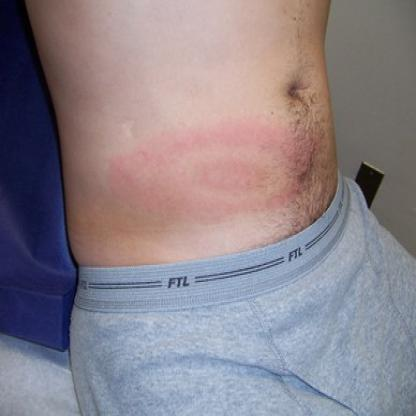Tick: (102, 111, 314, 222)
